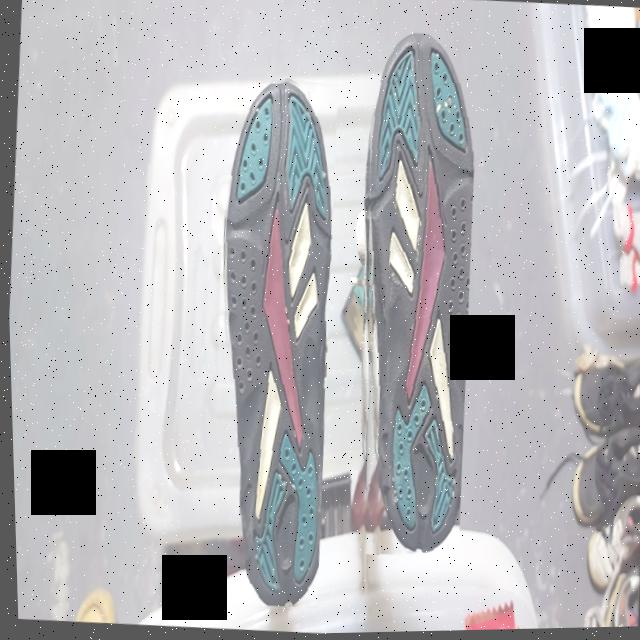shoe: (191, 72, 350, 611), (334, 31, 491, 562)
